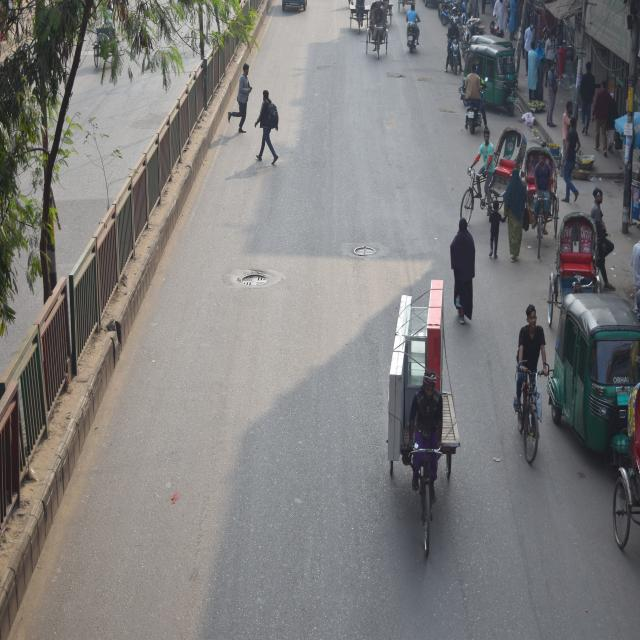motorbike: (400, 3, 424, 59), (446, 23, 466, 74)
